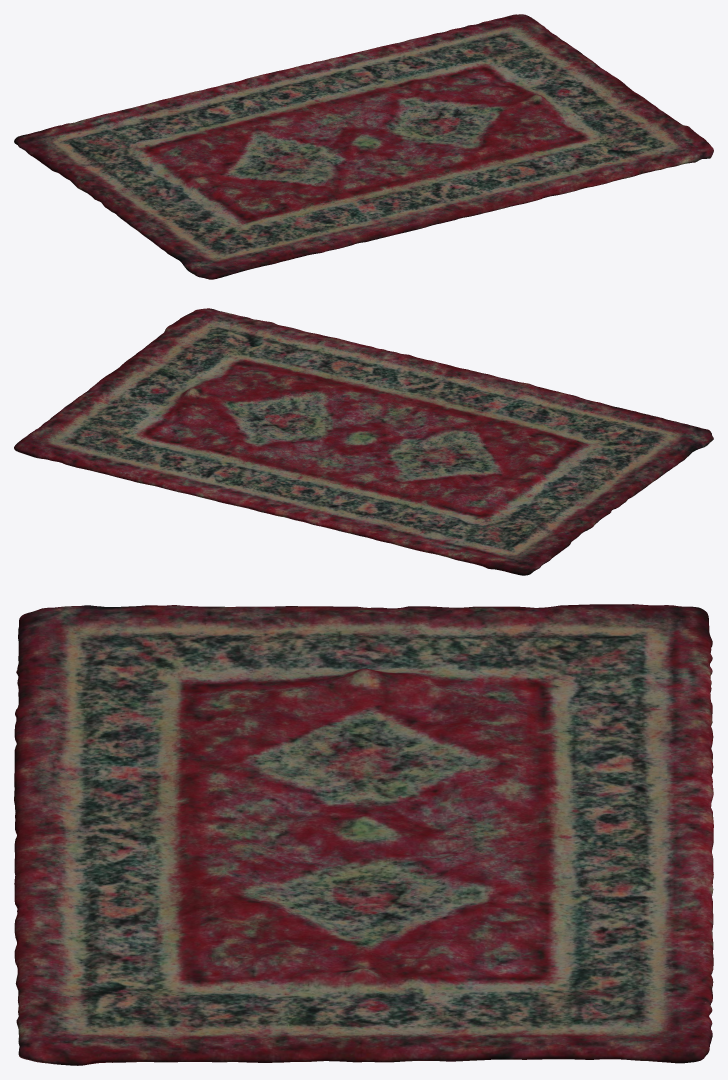
The model's file is an_old_soviet_carpet.glb.
3 renders of one model, top to bottom at view 1: azimuth 30°, elevation 25°; view 2: azimuth 150°, elevation 25°; view 3: azimuth 270°, elevation 25°, orthographic. The views are drawn at different scales.
Parts seen in each view (by area): view 1: Object_2; view 2: Object_2; view 3: Object_2.
Part boxes in pixels (x1,y1,x2,y2): Object_2: (14, 14, 713, 279); Object_2: (14, 308, 713, 575); Object_2: (14, 604, 713, 1065).
Bounding box in the file's own units: 1 × 0.0316 × 0.6477.
Materials: 1 (1 with a texture image).
